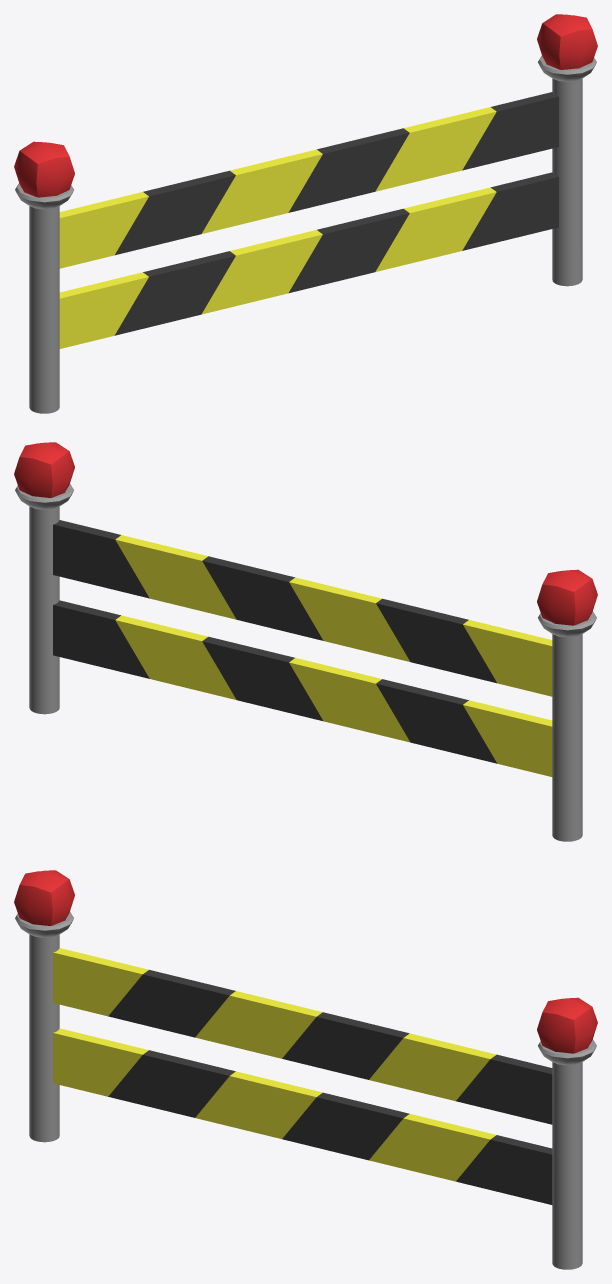
The model's file is Obstacle_01.fbx.
The picture shows the model from 3 angles, top to bottom: view 1: azimuth 30°, elevation 25°; view 2: azimuth 150°, elevation 25°; view 3: azimuth 330°, elevation 25°; orthographic projection.
Parts seen in each view (by area): view 1: Cylinder, Cube.013, Cube.004, Cube.009, Cube.003, Cube.012, Cube.006, Cube.007, Cube.010, Cube.005, Cube.011, Cube.002 (+1 smaller); view 2: Cylinder, Cube.013, Cube.004, Cube.009, Cube.003, Cube.012, Cube.006, Cube.007, Cube.010, Cube.005, Cube.011, Cube.002 (+1 smaller); view 3: Cylinder, Cube.003, Cube.010, Cube.004, Cube.012, Cube.013, Cube.006, Cube.007, Cube.009, Cube.005, Cube.011, Cube.008 (+1 smaller).
Part boxes in pixels (x1,y1,x2,y2): Cylinder: (14,14,597,413); Cube.013: (115,251,235,335); Cube.004: (202,149,322,233); Cube.009: (375,187,496,271); Cube.003: (375,107,496,191); Cube.012: (288,208,409,293); Cube.006: (288,128,409,212); Cube.007: (115,170,235,255); Cube.010: (201,230,322,314); Cube.005: (462,92,558,170); Cube.011: (462,172,558,250); Cube.002: (59,192,148,268); Cylinder: (14,442,597,841); Cube.013: (376,679,496,763); Cube.004: (289,577,409,661); Cube.009: (115,615,236,699); Cube.003: (115,535,236,619); Cube.012: (202,636,323,721); Cube.006: (202,556,323,640); Cube.007: (376,598,496,683); Cube.010: (289,658,410,742); Cube.005: (53,520,149,598); Cube.011: (53,600,149,678); Cube.002: (463,620,552,696); Cylinder: (14,870,597,1269); Cube.003: (369,1033,496,1101); Cube.010: (195,1071,322,1138); Cube.004: (195,991,322,1058); Cube.012: (282,1092,409,1160); Cube.013: (108,1050,235,1117); Cube.006: (282,1012,409,1079); Cube.007: (108,970,235,1037); Cube.009: (369,1114,496,1181); Cube.005: (456,1054,552,1124); Cube.011: (456,1135,552,1204); Cube.008: (53,1028,148,1096).
Bounding box in the file's own units: 368 × 162 × 34.12.
